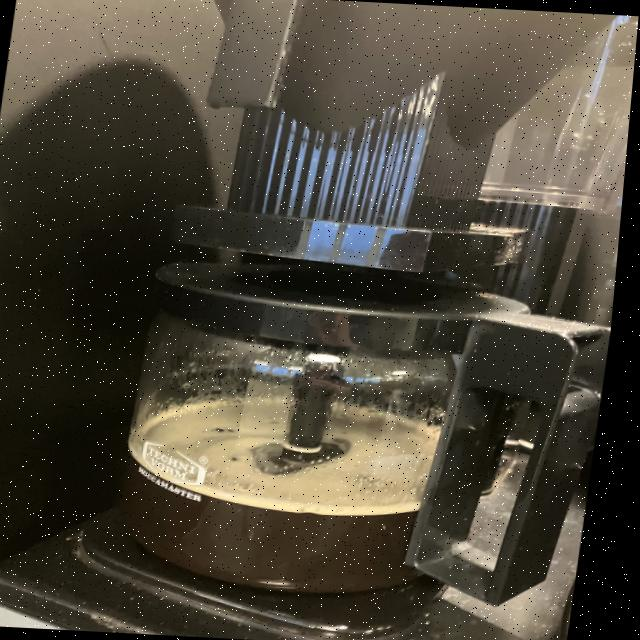coffee: (100, 234, 537, 606)
